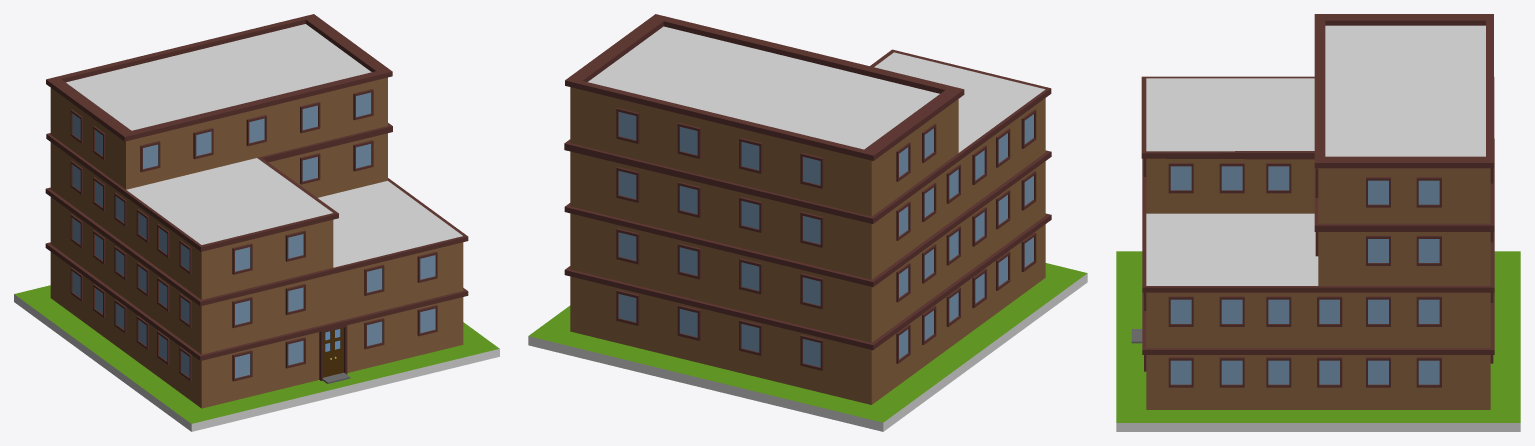
The model's file is Building Type 2 Lvl 1.gltf.
The picture shows the model from 3 angles, left to right: view 1: azimuth 30°, elevation 25°; view 2: azimuth 150°, elevation 25°; view 3: azimuth 270°, elevation 25°; orthographic projection. The views are drawn at different scales.
Parts seen in each view (by area): view 1: zgrada 2x2, prozori zgrada 2x2, BAZA 2x2.006, ulazna vrata zgrade; view 2: zgrada 2x2, prozori zgrada 2x2, BAZA 2x2.006; view 3: zgrada 2x2, BAZA 2x2.006, prozori zgrada 2x2.
Part boxes in pixels (x1,y1,x2,y2): zgrada 2x2: (45, 14, 468, 408); prozori zgrada 2x2: (70, 89, 437, 381); BAZA 2x2.006: (14, 285, 499, 431); ulazna vrata zgrade: (319, 325, 350, 383); zgrada 2x2: (564, 14, 1051, 404); prozori zgrada 2x2: (616, 108, 1036, 370); BAZA 2x2.006: (528, 263, 1087, 431); zgrada 2x2: (1141, 14, 1494, 409); BAZA 2x2.006: (1116, 251, 1520, 431); prozori zgrada 2x2: (1143, 158, 1493, 387).
Bounding box in the file's own units: 4.02 × 2.82 × 4.
